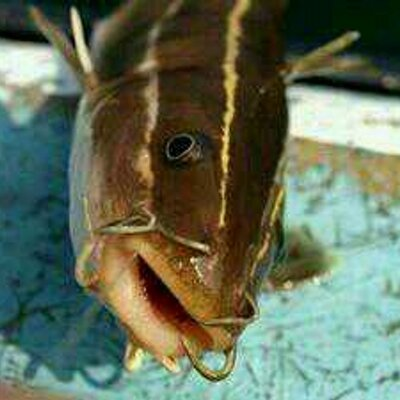gonzui: (58, 1, 289, 376)
